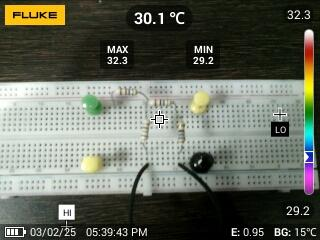resistor: (174, 120, 190, 148), (139, 117, 151, 144), (112, 87, 141, 97), (146, 98, 175, 108)
